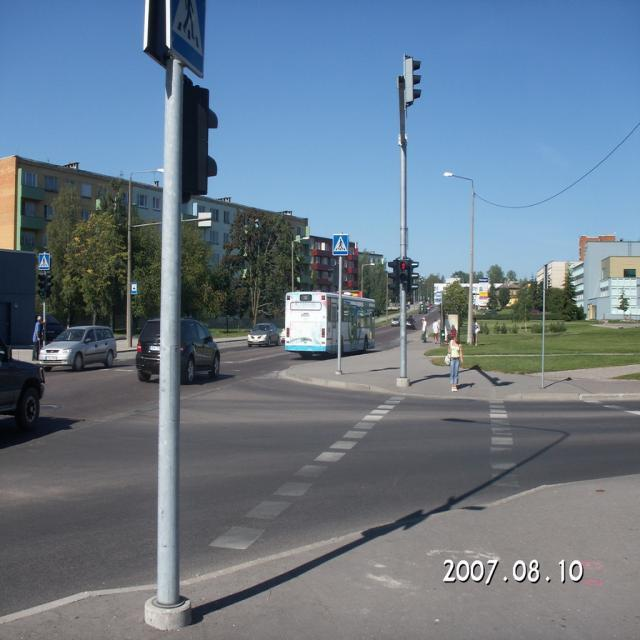obstructed_road_sign: (170, 0, 206, 77)
off traffic light: (404, 57, 423, 104), (408, 260, 419, 295), (389, 260, 398, 293)
road_sign: (331, 235, 349, 253), (39, 252, 50, 270)
traffic light: (399, 260, 407, 281)
